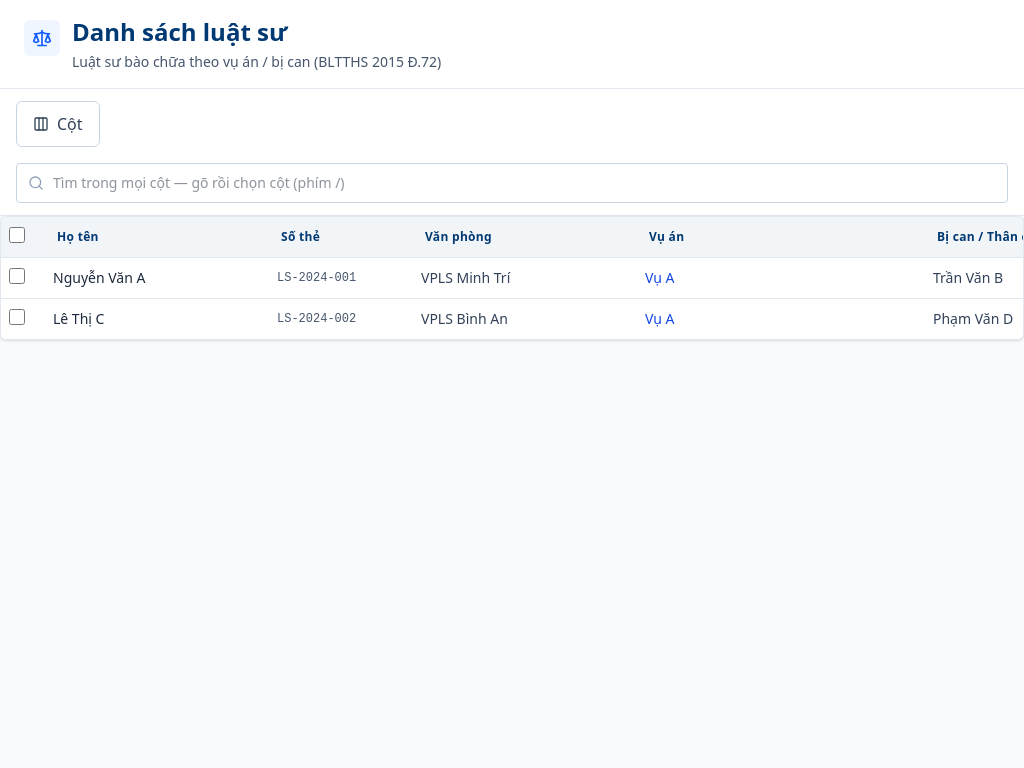
Test: LawyerListPageShell — bulk delete flow › click Xóa → opens confirm modal với reason textarea
expect the text "Nguyễn Văn A" is shown: met, box [41,258,265,298]
Click the checkbox named "Chọn luật sư Nguyễn Văn A" at (17, 276), box [9,268,25,284]
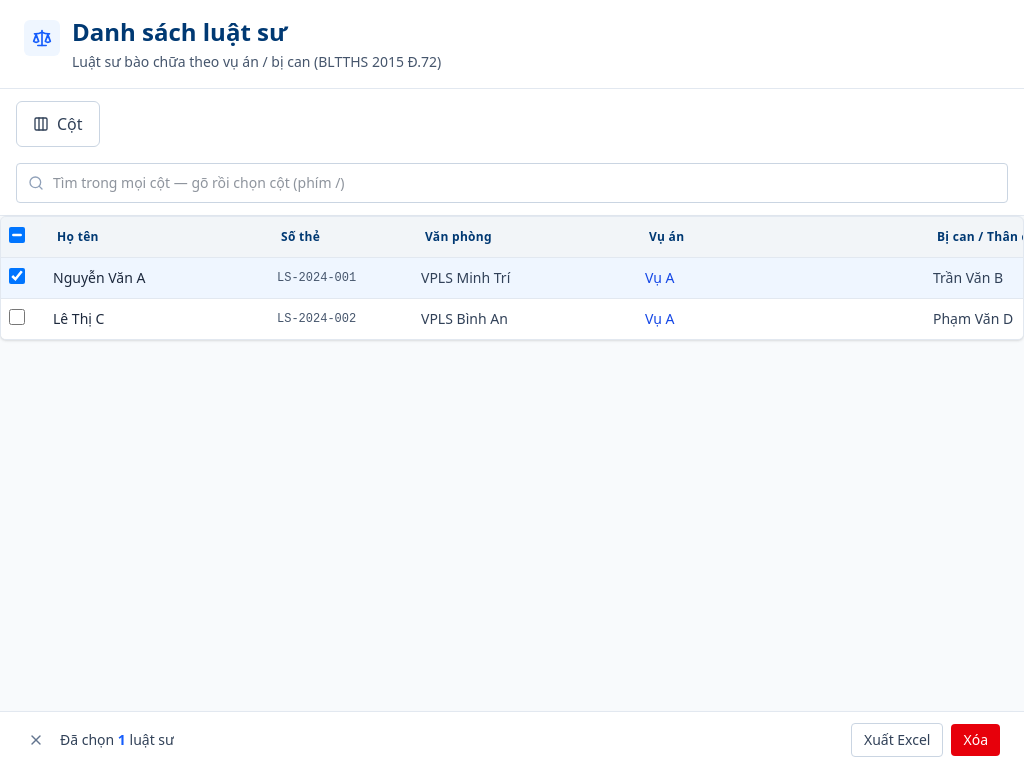
Click the button "Xóa" at (976, 740), box [952,724,1000,756]
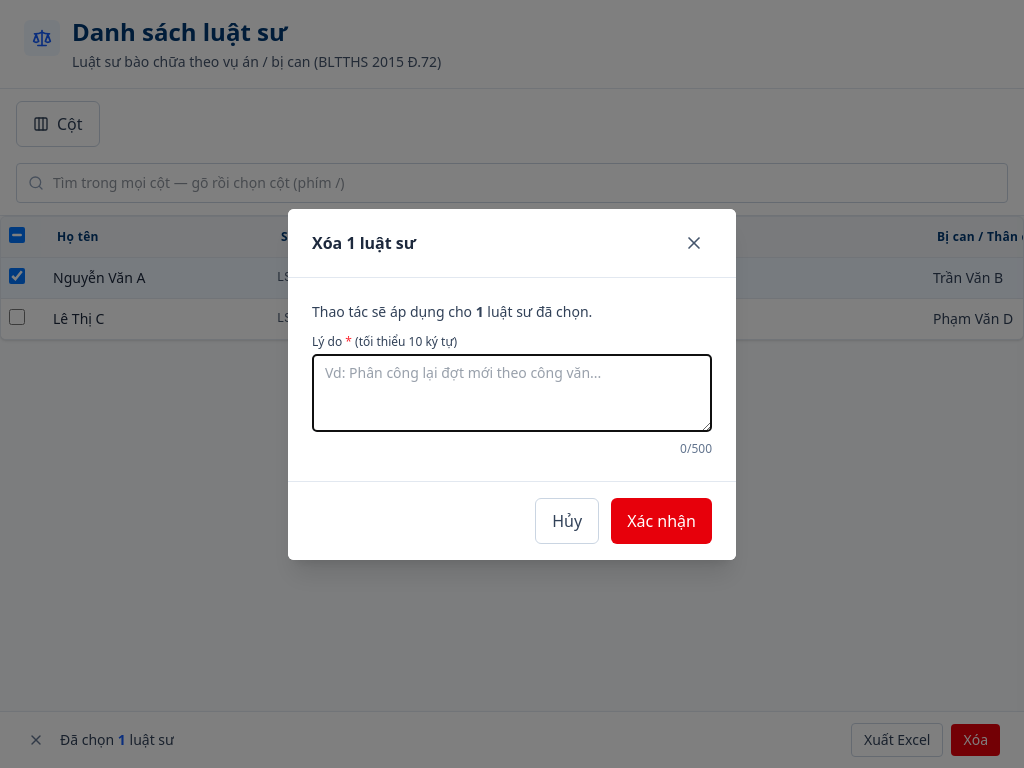
expect the text box is shown: met, box [312,354,712,432]
